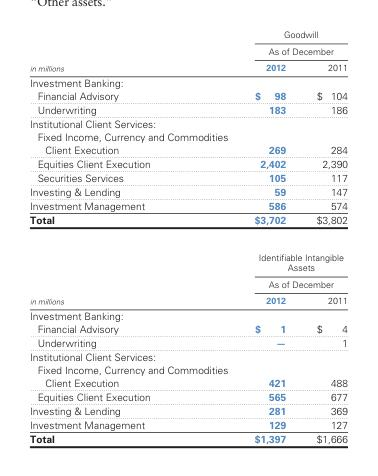table: (28, 28, 346, 444)
table column: (28, 28, 240, 444), (240, 28, 300, 444), (300, 28, 346, 444)
table column header: (28, 28, 346, 74)
table projected row header: (28, 74, 346, 89), (28, 307, 346, 322), (28, 116, 346, 130), (28, 349, 346, 363)
table row: (28, 238, 346, 275), (28, 28, 346, 58), (28, 130, 346, 156), (28, 212, 346, 238), (28, 363, 346, 389), (28, 275, 346, 292), (28, 58, 346, 74), (28, 74, 346, 89), (28, 292, 346, 307), (28, 307, 346, 322), (28, 102, 346, 116), (28, 116, 346, 130), (28, 156, 346, 170), (28, 170, 346, 184), (28, 184, 346, 198), (28, 198, 346, 212), (28, 335, 346, 349), (28, 349, 346, 363), (28, 389, 346, 403), (28, 403, 346, 417), (28, 417, 346, 431), (28, 89, 346, 102), (28, 322, 346, 335), (28, 431, 346, 444)
table spanning cell: (28, 28, 240, 74), (240, 238, 346, 275), (240, 28, 346, 58), (240, 275, 346, 292)
